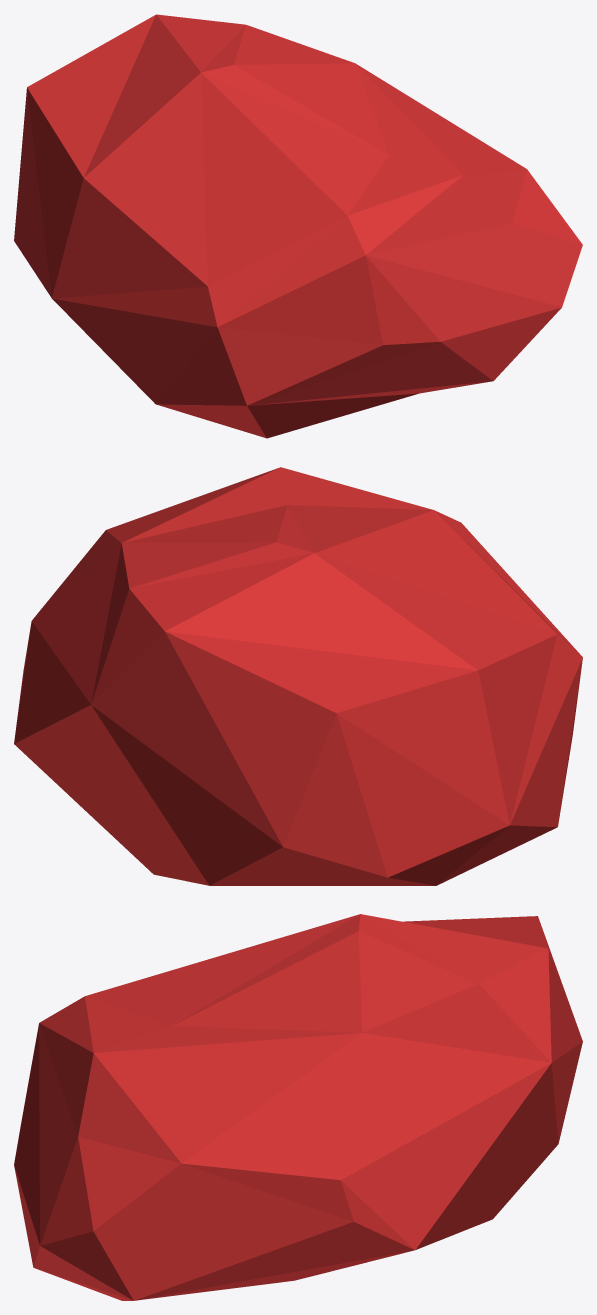
Rendered from Mosh 11.FBX.
The picture shows the model from 3 angles, top to bottom: view 1: azimuth 30°, elevation 25°; view 2: azimuth 150°, elevation 25°; view 3: azimuth 270°, elevation 25°; orthographic projection. The views are drawn at different scales.
Parts seen in each view (by area): view 1: cube; view 2: cube; view 3: cube.
Boxes of the visible parts, x1,y1,x2,y2 form: cube: (14, 14, 582, 438); cube: (14, 467, 582, 885); cube: (14, 914, 582, 1300).
Bounding box in the file's own units: 72.43 × 47.18 × 75.31.
